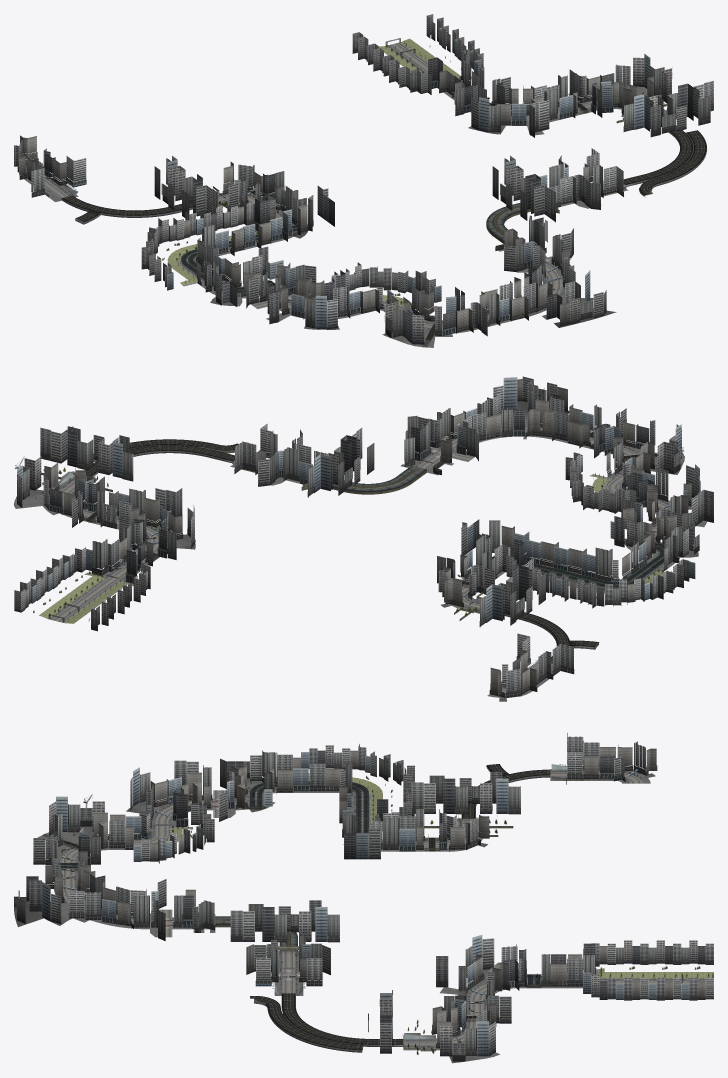
Rendered from nfs_shift_mobile_-_chicago.glb.
The picture shows the model from 3 angles, top to bottom: view 1: azimuth 30°, elevation 25°; view 2: azimuth 150°, elevation 25°; view 3: azimuth 270°, elevation 25°; orthographic projection. The views are drawn at different scales.
Parts seen in each view (by area): view 1: Object_9, Object_7, Object_11, Object_13; view 2: Object_9, Object_7, Object_11, Object_13; view 3: Object_9, Object_7, Object_11, Object_13.
Part boxes in pixels (x1,y1,x2,y2): Object_9: [14, 14, 713, 347]; Object_7: [34, 43, 653, 329]; Object_11: [26, 38, 672, 330]; Object_13: [23, 42, 624, 330]; Object_9: [14, 376, 713, 701]; Object_7: [51, 428, 670, 693]; Object_11: [14, 388, 684, 688]; Object_13: [51, 419, 670, 689]; Object_9: [14, 732, 713, 1063]; Object_7: [62, 772, 705, 1052]; Object_11: [57, 764, 713, 1054]; Object_13: [54, 765, 705, 1046].
Size of the model in its own units: 2852 by 179 by 2740.
Materials: 4 (4 with a texture image).
